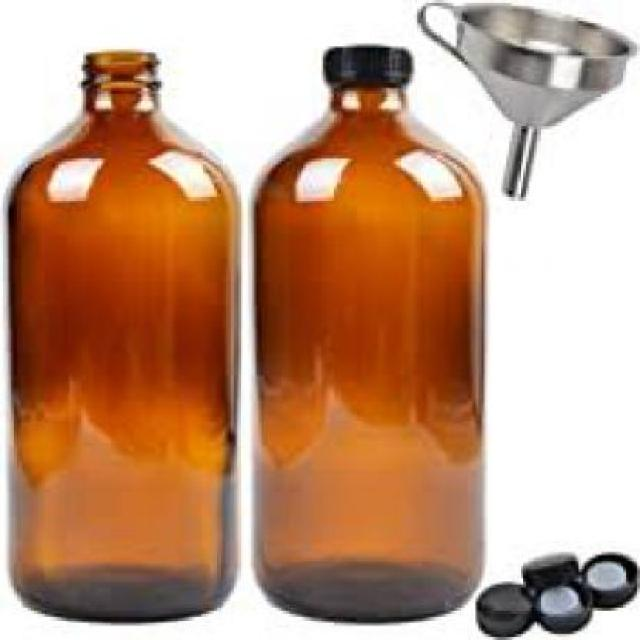kaca: (6, 51, 234, 620), (248, 80, 482, 620)
